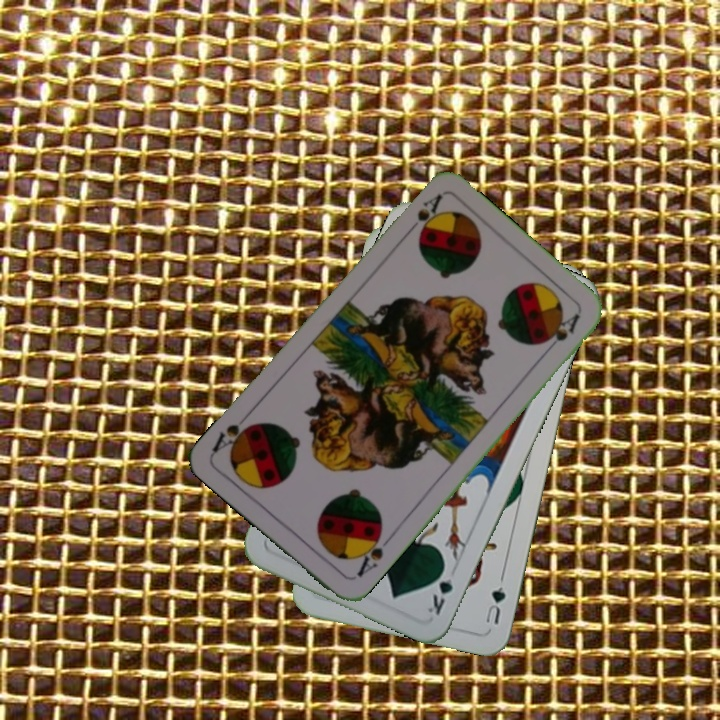GK: (423, 560, 456, 618)
GU: (481, 582, 508, 627)
SA: (352, 526, 395, 581), (401, 190, 445, 239)
